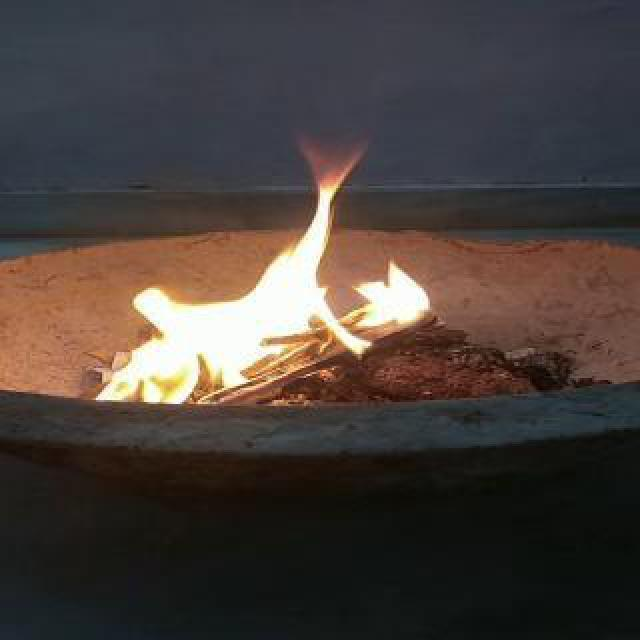Fire: (112, 150, 456, 410)
